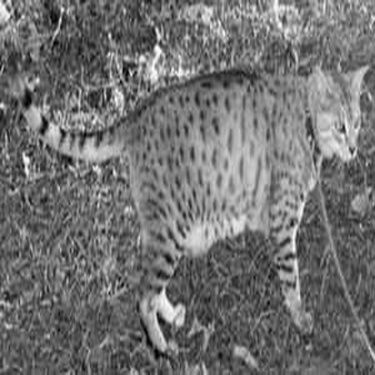cat: (24, 49, 363, 350)
